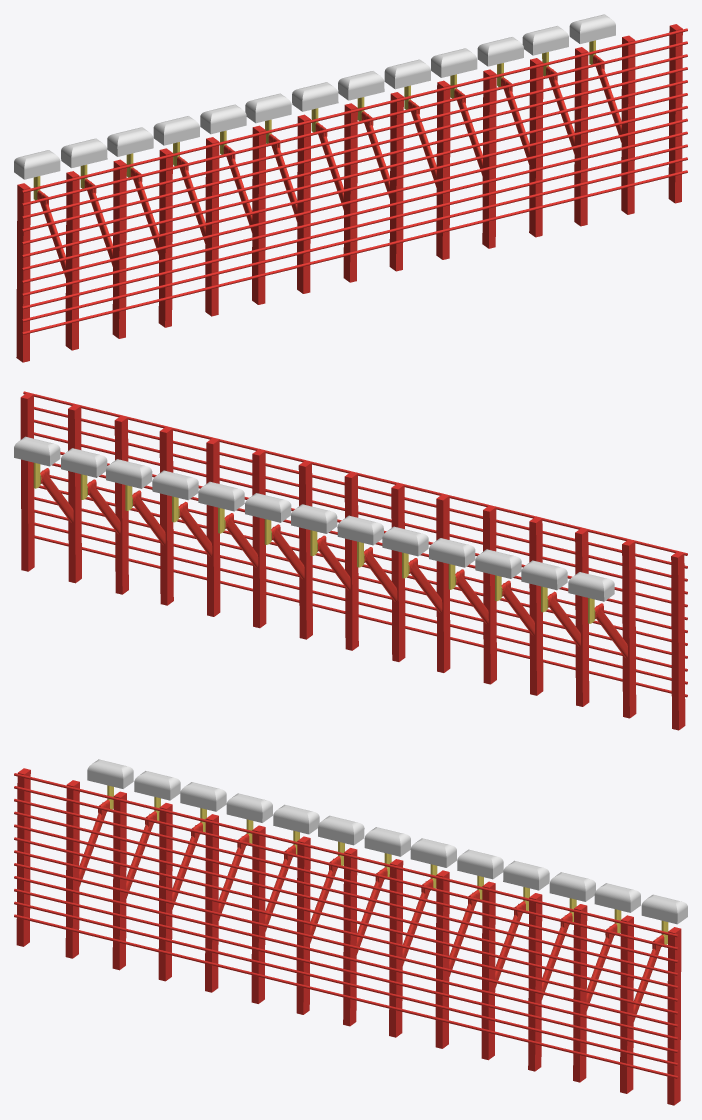
File: InitialLOC.fbx
The picture shows the model from 3 angles, top to bottom: view 1: azimuth 30°, elevation 25°; view 2: azimuth 150°, elevation 25°; view 3: azimuth 330°, elevation 25°; orthographic projection.
Visible parts, largest first — view 1: Cube.004; view 2: Cube.004; view 3: Cube.004.
Boxes of the visible parts, x1,y1,x2,y2 form: Cube.004: (14, 14, 687, 362); Cube.004: (14, 391, 687, 730); Cube.004: (14, 759, 687, 1105).
Bounding box in the file's own units: 10798 × 2686 × 1309.
